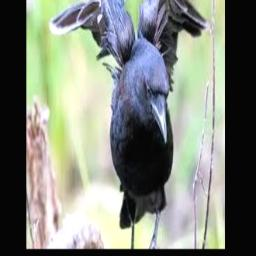Crow: (48, 0, 209, 249)
